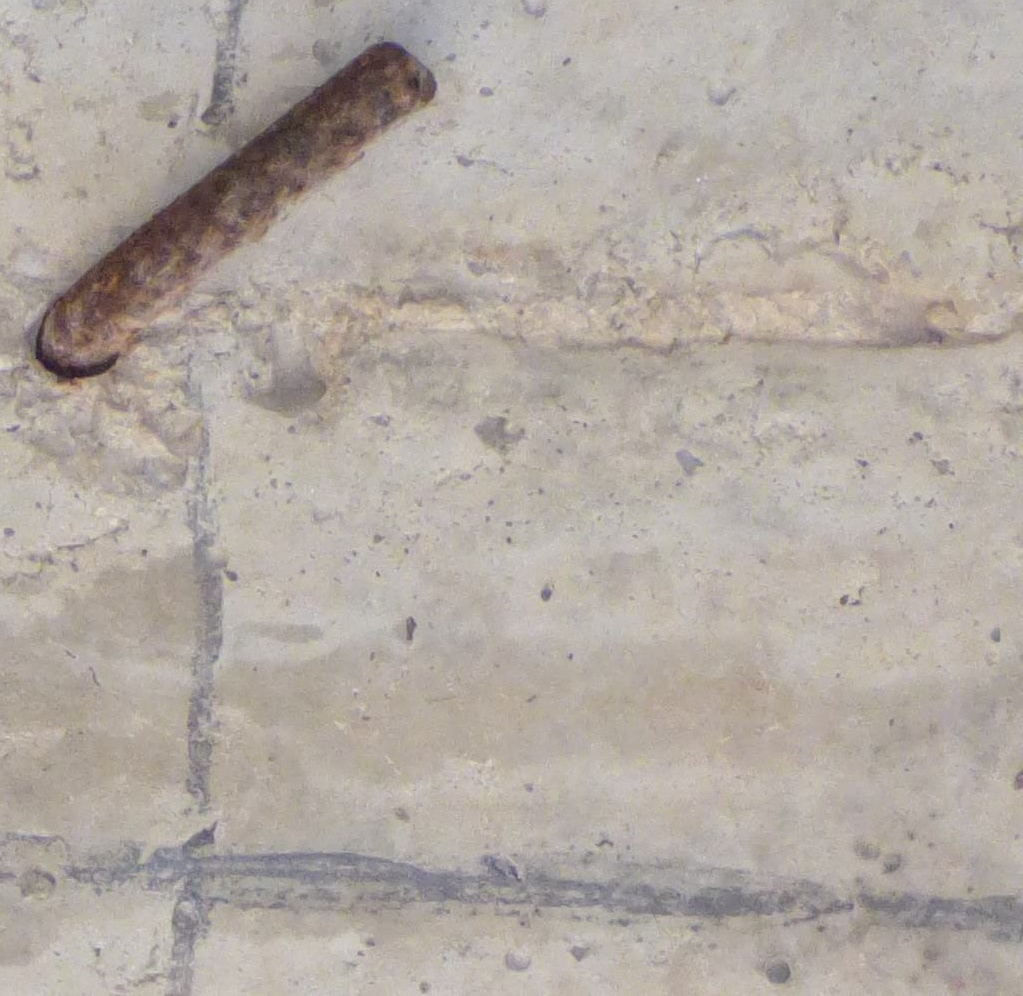Exposed reinforcement: (39, 41, 438, 372)
